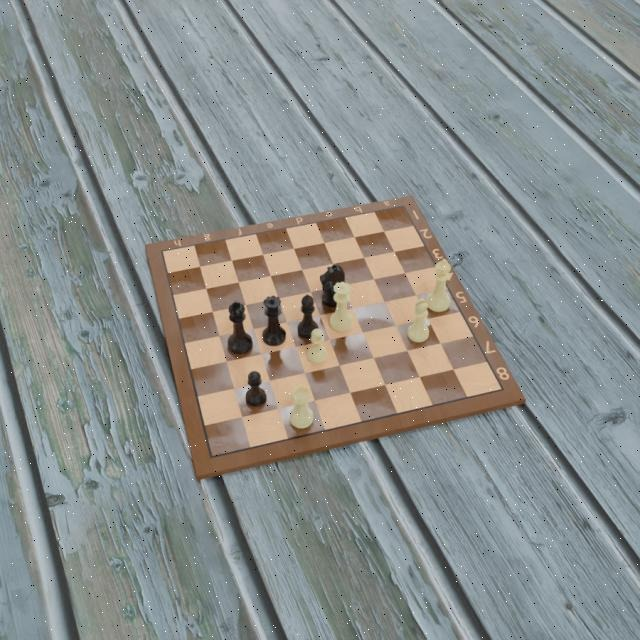black-bishop: (296, 294, 320, 342)
black-king: (227, 300, 253, 355)
black-knight: (318, 262, 346, 310)
black-pawn: (244, 370, 268, 407)
black-queen: (261, 294, 287, 348)
white-bishop: (405, 295, 431, 346)
white-king: (425, 257, 453, 315)
white-pawn: (305, 327, 329, 366)
white-queen: (328, 281, 356, 335)
white-rook: (287, 383, 314, 431)
